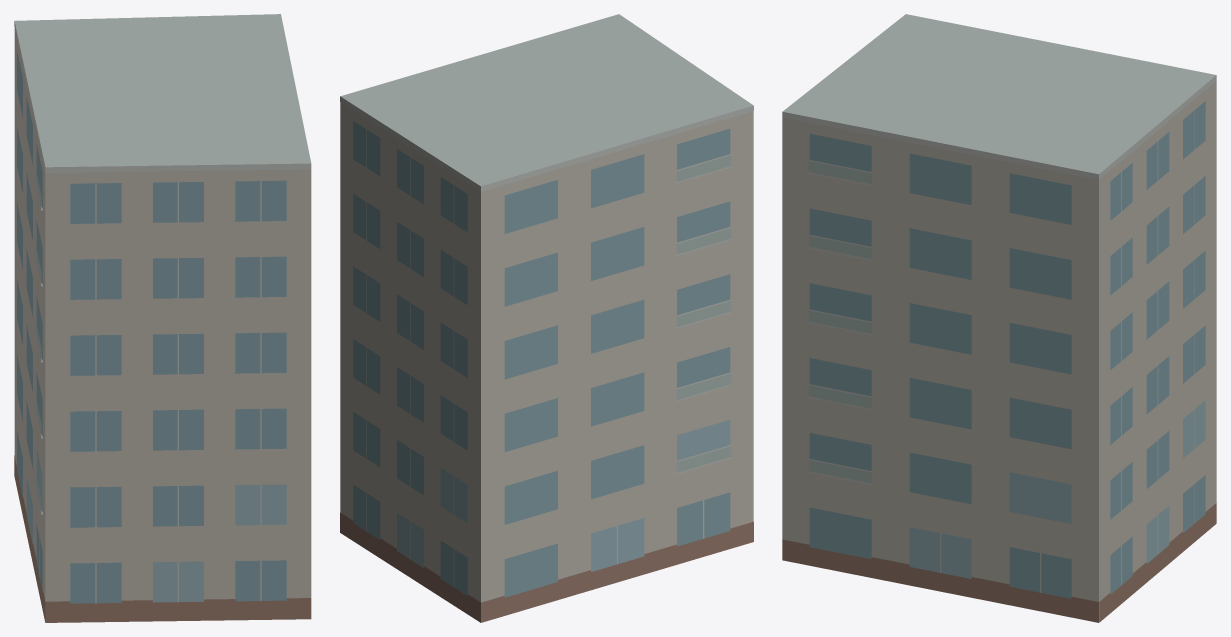
The model's file is survey-upis-32706412.glb.
3 renders of one model, left to right at view 1: azimuth 30°, elevation 25°; view 2: azimuth 150°, elevation 25°; view 3: azimuth 270°, elevation 25°, orthographic. The views are drawn at different scales.
Visible parts, largest first — view 1: survey-upis-32706412.tmp; view 2: survey-upis-32706412.tmp; view 3: survey-upis-32706412.tmp.
Part boxes in pixels (box(x1,y1,x2,y2)): survey-upis-32706412.tmp: box(14, 14, 311, 622); survey-upis-32706412.tmp: box(340, 14, 753, 622); survey-upis-32706412.tmp: box(782, 14, 1216, 622).
Bounding box in the file's own units: 14.65 × 19.1 × 16.76.
